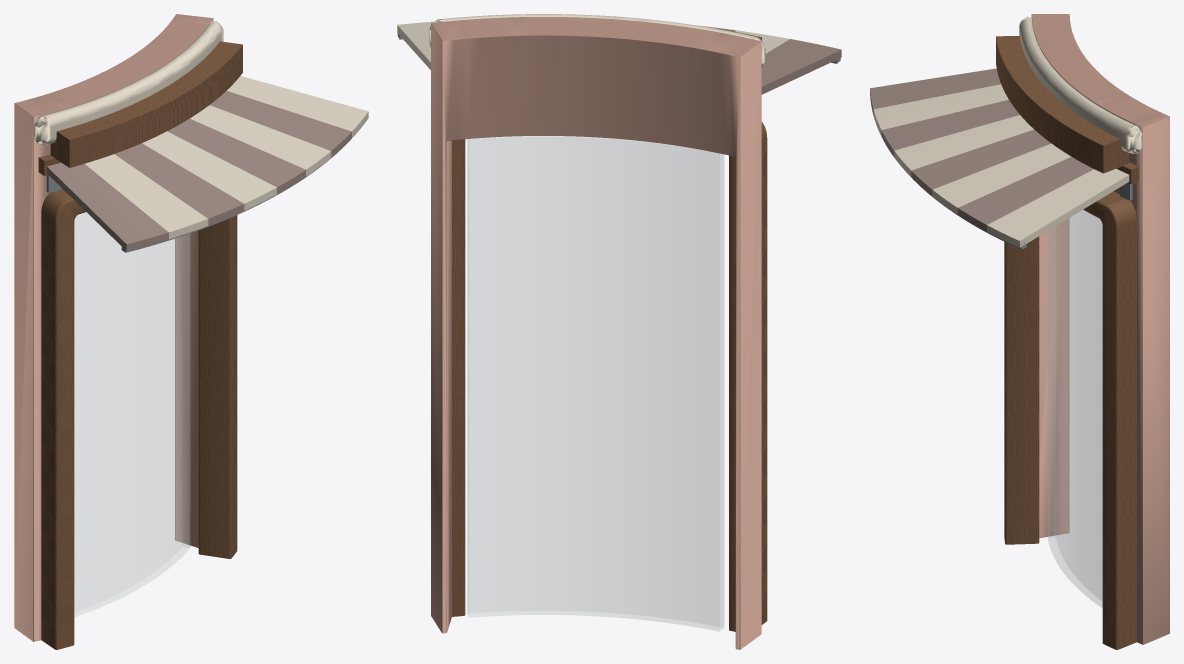
Rendered from ArcShopfront_R2_A45.glb.
3 views of the same model, side by side, from view 1: azimuth 30°, elevation 25°; view 2: azimuth 150°, elevation 25°; view 3: azimuth 270°, elevation 25° (orthographic). The views are drawn at different scales.
Parts seen in each view (by area): view 1: PBK_Arc_PBK_glass.002, PBK_Continuous_Frame_Brick_Shopfront.003, PBK_substrate.001, PBK_Arc_PBK_signboard.006, PBK_Arc_PBK_awning_stripe.006, PBK_floor_band.001, PBK_Arc_PBK_awning_stripe.007, PBK_Arc_PBK_awning_stripe.011, PBK_Arc_PBK_awning_stripe.012, PBK_Arc_PBK_awning_stripe.013, PBK_Arc_PBK_awning_stripe.014, PBK_Arc_PBK_awning_stripe.015 (+1 smaller); view 2: PBK_Arc_PBK_glass.002, PBK_substrate.001, PBK_Continuous_Frame_Brick_Shopfront.003, PBK_Arc_PBK_awning_stripe.006, PBK_floor_band.001, PBK_Arc_PBK_awning_stripe.022; view 3: PBK_substrate.001, PBK_Continuous_Frame_Brick_Shopfront.003, PBK_Arc_PBK_glass.002, PBK_Arc_PBK_signboard.006, PBK_Arc_PBK_awning_stripe.022, PBK_floor_band.001, PBK_Arc_PBK_awning_stripe.015, PBK_Arc_PBK_awning_stripe.014, PBK_Arc_PBK_awning_stripe.013, PBK_Arc_PBK_awning_stripe.012, PBK_Arc_PBK_awning_stripe.011, PBK_Arc_PBK_awning_stripe.007 (+1 smaller).
Part boxes in pixels (bbox=[...]): PBK_Arc_PBK_glass.002: bbox=[74, 212, 189, 616]; PBK_Continuous_Frame_Brick_Shopfront.003: bbox=[41, 188, 237, 649]; PBK_substrate.001: bbox=[14, 14, 213, 641]; PBK_Arc_PBK_signboard.006: bbox=[50, 41, 242, 167]; PBK_Arc_PBK_awning_stripe.006: bbox=[47, 162, 168, 251]; PBK_floor_band.001: bbox=[34, 21, 223, 145]; PBK_Arc_PBK_awning_stripe.007: bbox=[85, 154, 208, 239]; PBK_Arc_PBK_awning_stripe.011: bbox=[114, 143, 244, 225]; PBK_Arc_PBK_awning_stripe.012: bbox=[142, 131, 276, 210]; PBK_Arc_PBK_awning_stripe.013: bbox=[167, 118, 305, 194]; PBK_Arc_PBK_awning_stripe.014: bbox=[190, 105, 331, 176]; PBK_Arc_PBK_awning_stripe.015: bbox=[210, 90, 351, 157]; PBK_Arc_PBK_glass.002: bbox=[467, 136, 723, 631]; PBK_substrate.001: bbox=[431, 17, 761, 649]; PBK_Continuous_Frame_Brick_Shopfront.003: bbox=[452, 121, 767, 631]; PBK_Arc_PBK_awning_stripe.006: bbox=[761, 39, 841, 94]; PBK_floor_band.001: bbox=[429, 14, 765, 67]; PBK_Arc_PBK_awning_stripe.022: bbox=[397, 21, 434, 69]; PBK_substrate.001: bbox=[1031, 14, 1169, 644]; PBK_Continuous_Frame_Brick_Shopfront.003: bbox=[1004, 191, 1136, 649]; PBK_Arc_PBK_glass.002: bbox=[1048, 210, 1102, 607]; PBK_Arc_PBK_signboard.006: bbox=[996, 35, 1128, 173]; PBK_Arc_PBK_awning_stripe.022: bbox=[987, 168, 1129, 247]; PBK_floor_band.001: bbox=[1019, 17, 1142, 153]; PBK_Arc_PBK_awning_stripe.015: bbox=[957, 157, 1093, 231]; PBK_Arc_PBK_awning_stripe.014: bbox=[932, 143, 1071, 214]; PBK_Arc_PBK_awning_stripe.013: bbox=[911, 129, 1050, 195]; PBK_Arc_PBK_awning_stripe.012: bbox=[894, 115, 1033, 176]; PBK_Arc_PBK_awning_stripe.011: bbox=[881, 100, 1019, 157]; PBK_Arc_PBK_awning_stripe.007: bbox=[873, 84, 1008, 136].
Size of the model in its own units: 1.97 by 3 by 1.58.
Materials: 7 (2 with a texture image).
